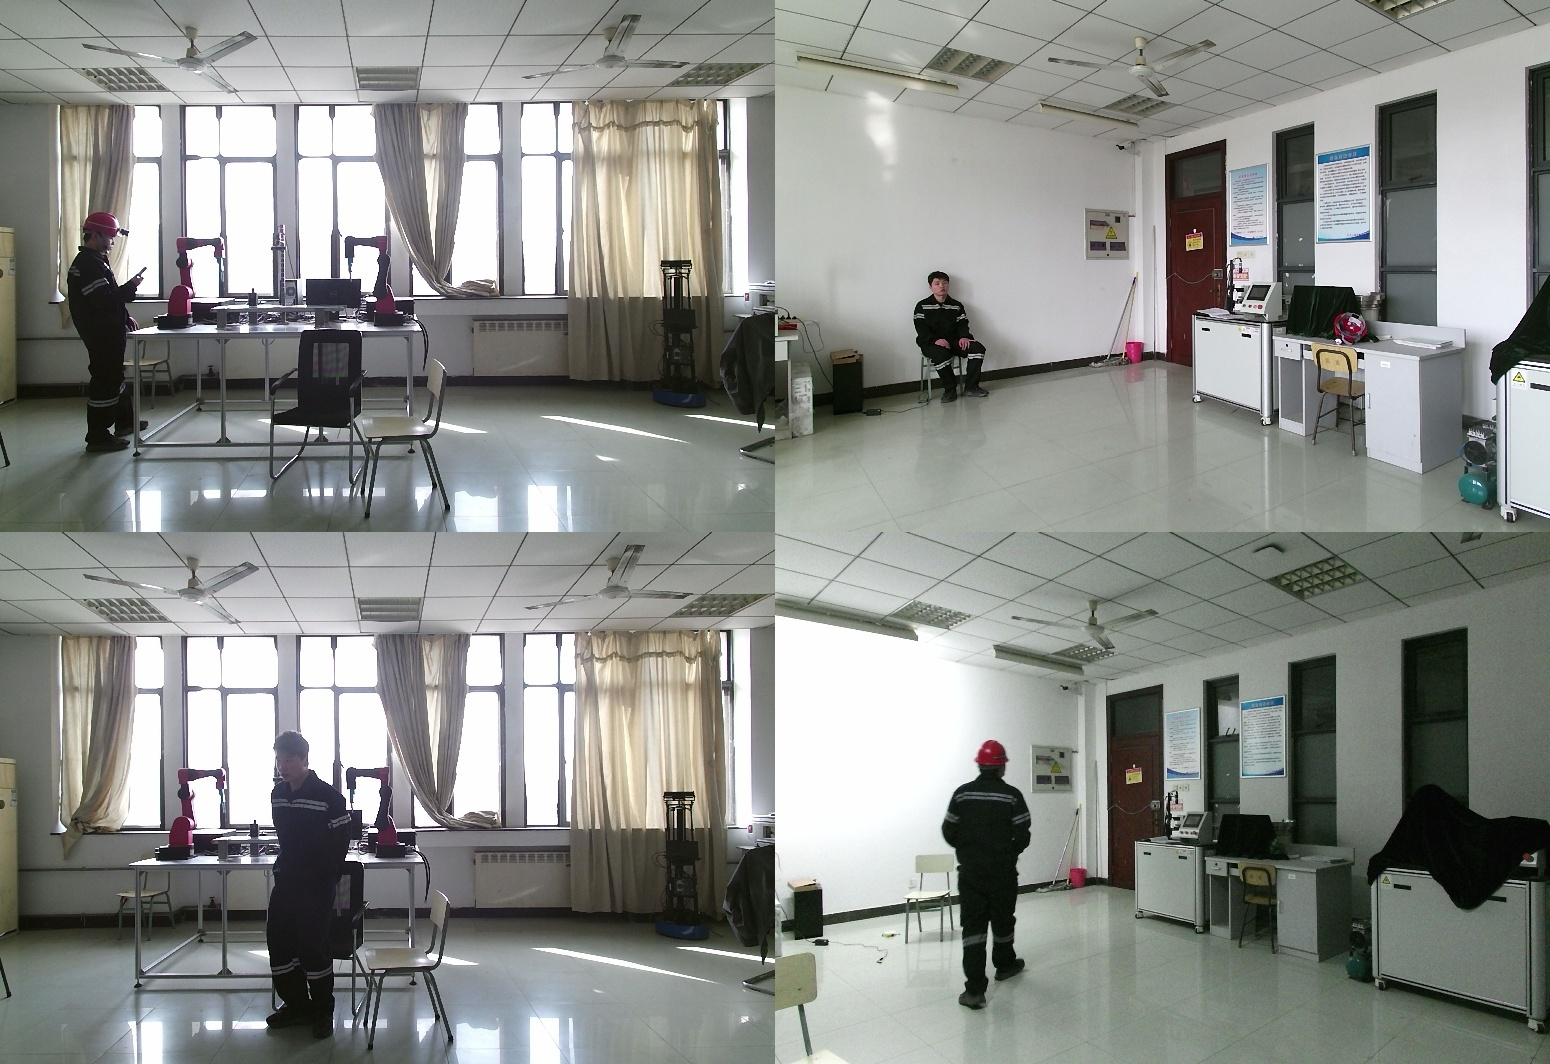person: (264, 731, 364, 1033), (942, 739, 1047, 1007), (67, 214, 144, 454), (910, 270, 987, 405)
